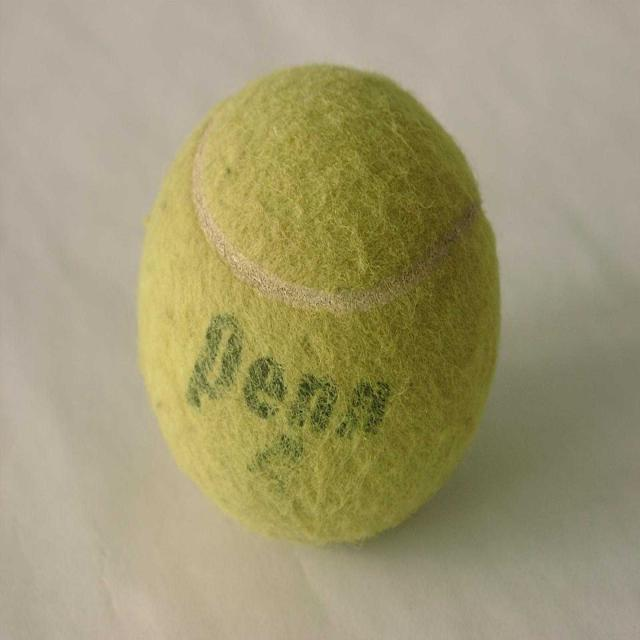Tennis_Ball: (132, 70, 497, 538)
